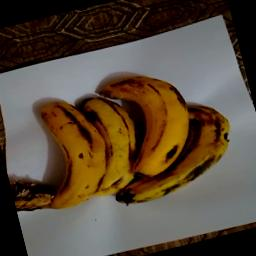Banana Unripe: (12, 58, 246, 230)
